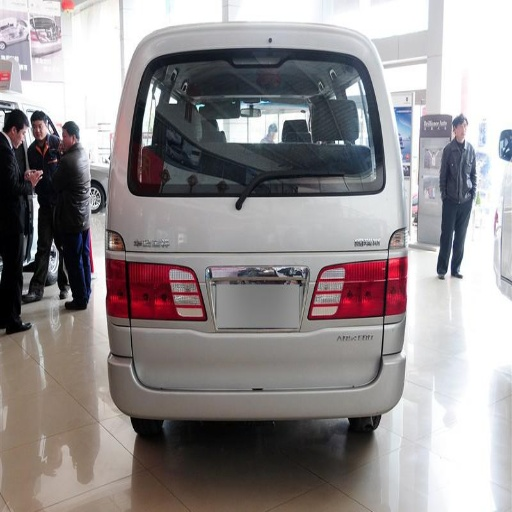back_bumper: (107, 315, 406, 419)
